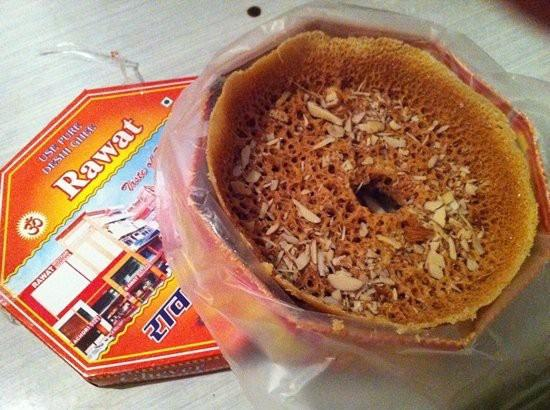Ghevar: (213, 31, 542, 331)
